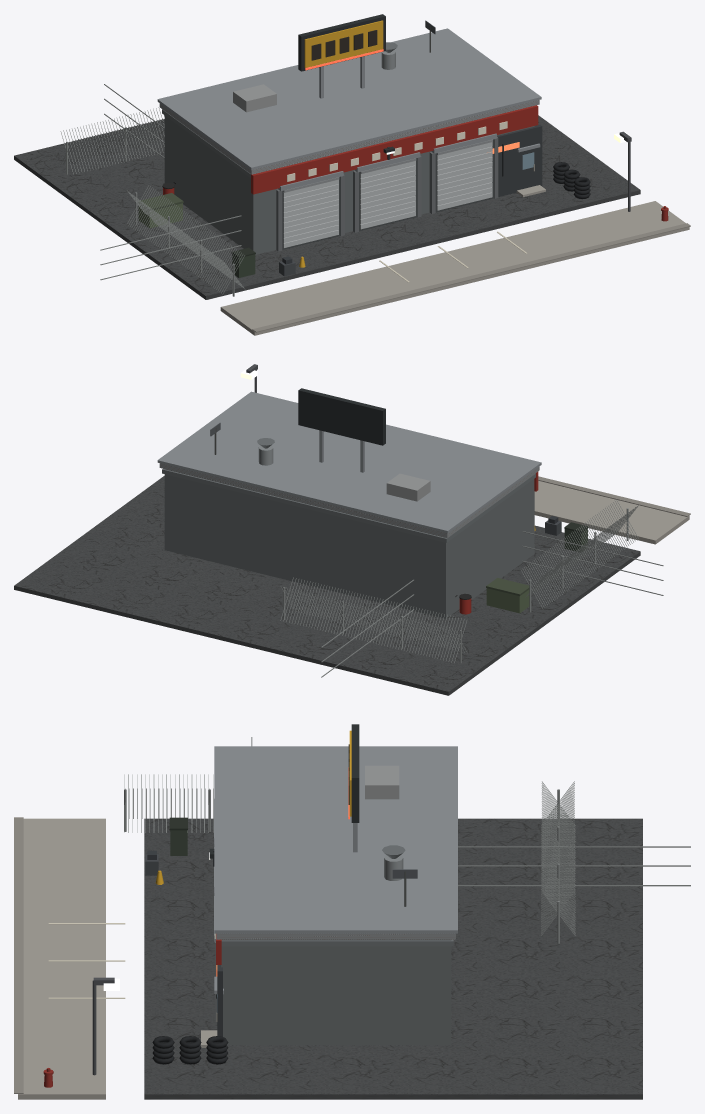
The model's file is jersey_bodyshop.glb.
3 views of the same model, one above another, from view 1: azimuth 30°, elevation 25°; view 2: azimuth 150°, elevation 25°; view 3: azimuth 270°, elevation 25° (orthographic). The views are drawn at different scales.
Bounding box in the file's own units: 39 × 12.12 × 35.3.
5 materials, 5 textured.
